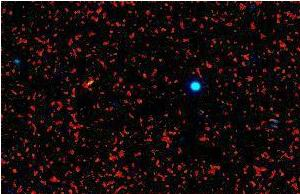star: (75, 68, 105, 98)
